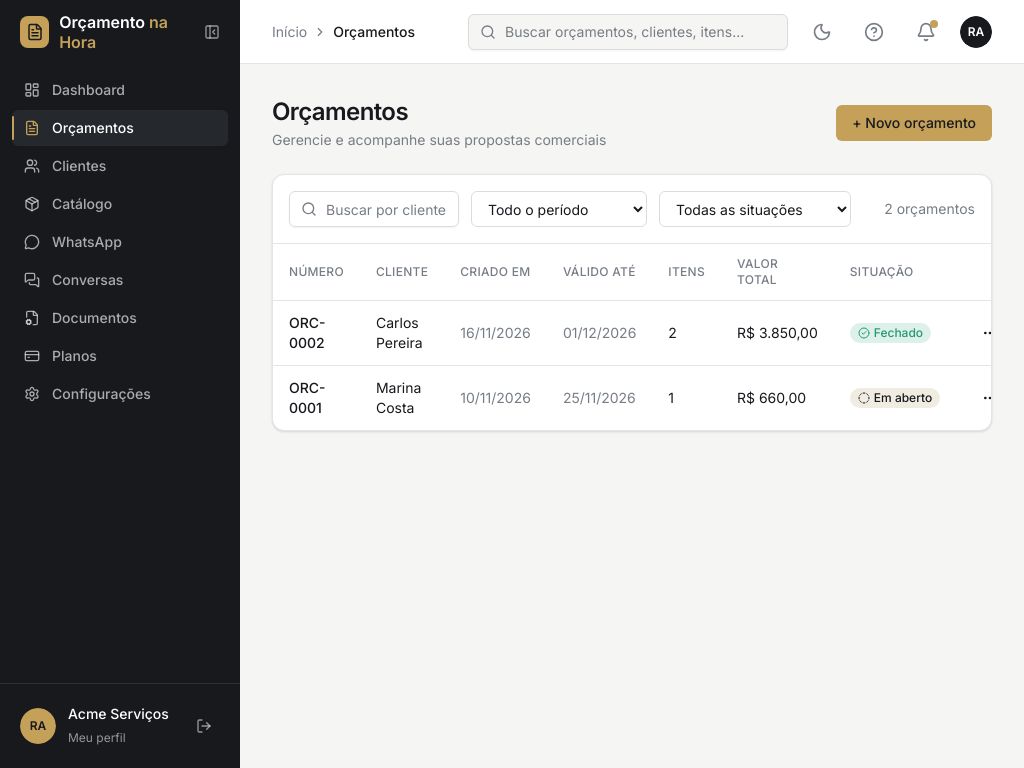
orçamentos › visualiza os itens do orçamento
What coordinates should you click on to do the following:
click the button named "Ações de ORC-0001"
I would click on:
 (990, 398)
Its box is [972,380,1008,416].
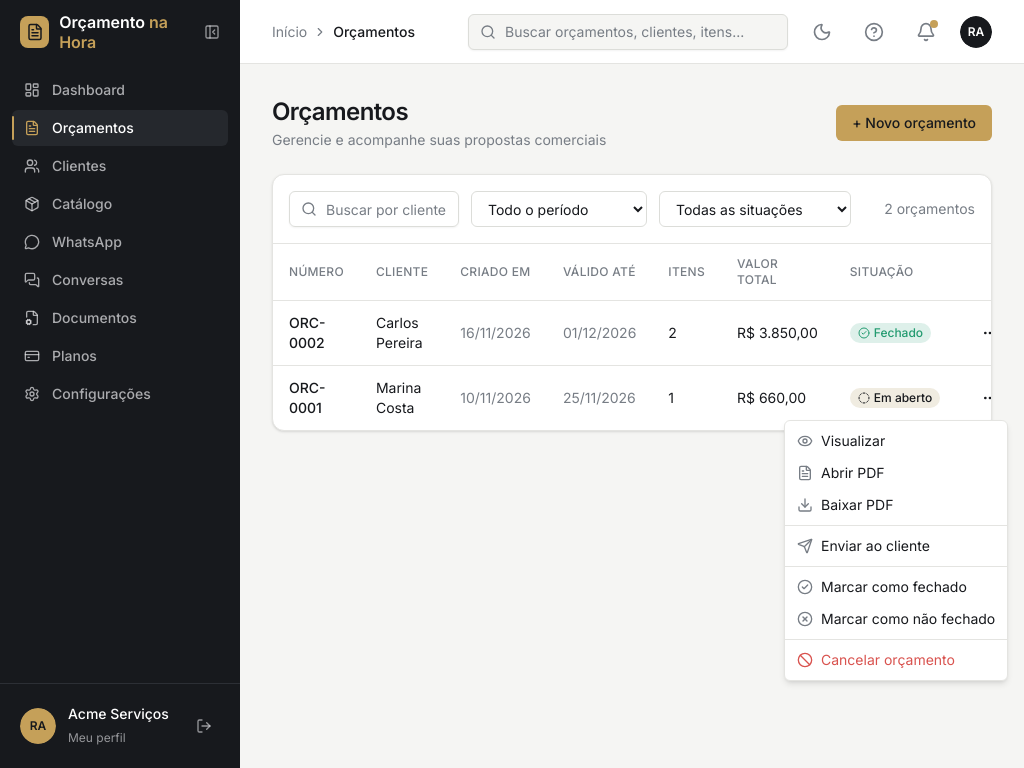
What coordinates should you click on to do the following:
click the menu item "Visualizar"
I would click on:
 (841, 440)
Its box is [797,432,885,449].
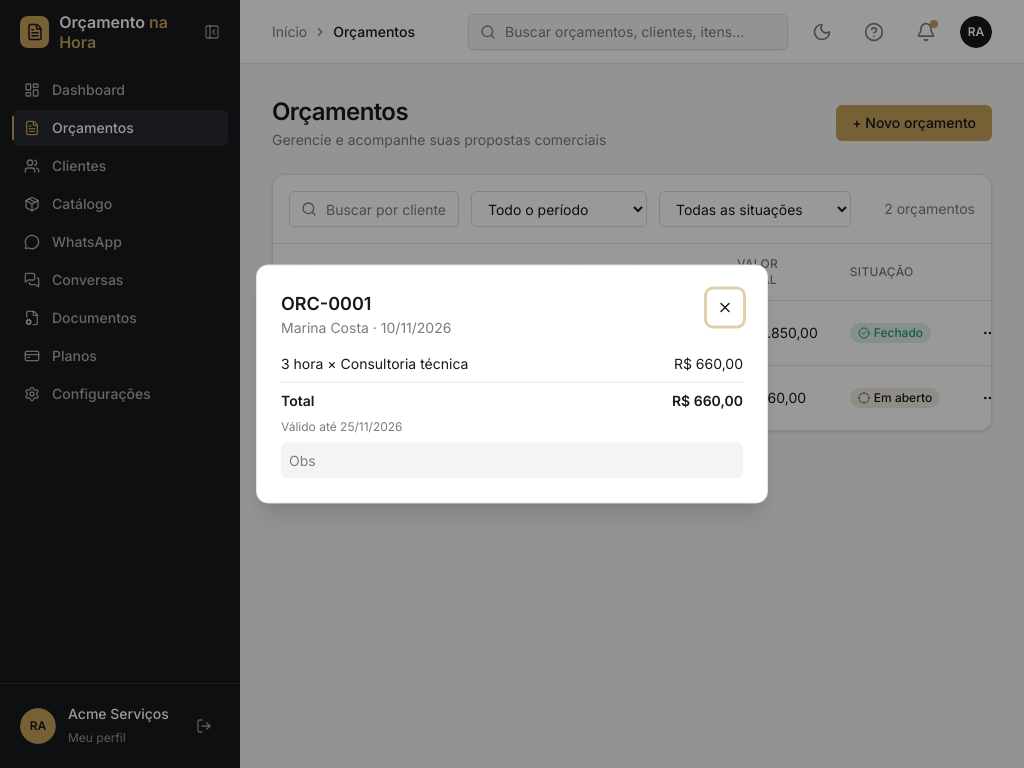
expect the text "3 hora × Consultoria técnica" is shown: met, box [281,354,468,374]
expect the text "Obs" is shown: met, box [281,442,743,478]
